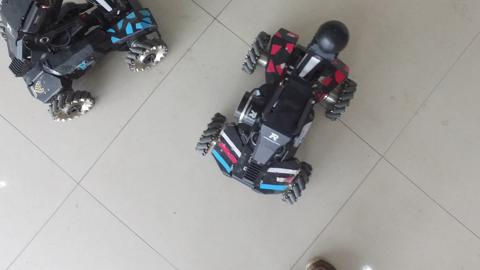chariot: (197, 9, 361, 211), (1, 1, 174, 127)
